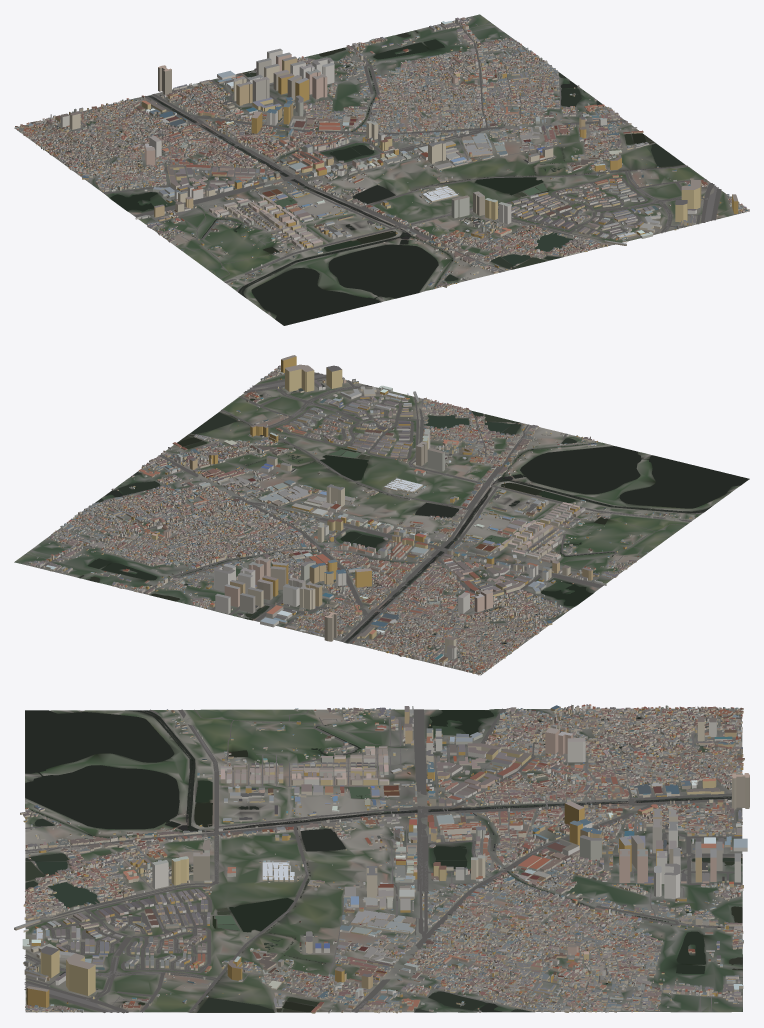
3 renders of one model, top to bottom at view 1: azimuth 30°, elevation 25°; view 2: azimuth 150°, elevation 25°; view 3: azimuth 270°, elevation 25°, orthographic. The views are drawn at different scales.
Visible parts, largest first — view 1: buildings, ground, water, roads; view 2: buildings, ground, water, roads; view 3: buildings, ground, water, roads.
Part boxes in pixels (box(x1,y1,x2,y2)): buildings: box(15, 17, 749, 288); ground: box(14, 14, 749, 325); water: box(67, 30, 684, 325); roads: box(35, 21, 738, 291); buildings: box(28, 355, 696, 675); ground: box(14, 369, 749, 675); water: box(79, 391, 749, 643); roads: box(26, 372, 702, 668); buildings: box(14, 704, 749, 1013); ground: box(25, 708, 742, 1012); water: box(25, 710, 742, 1012); roads: box(24, 708, 742, 1013).
Size of the model in its own units: 2825 by 143 by 2877.
